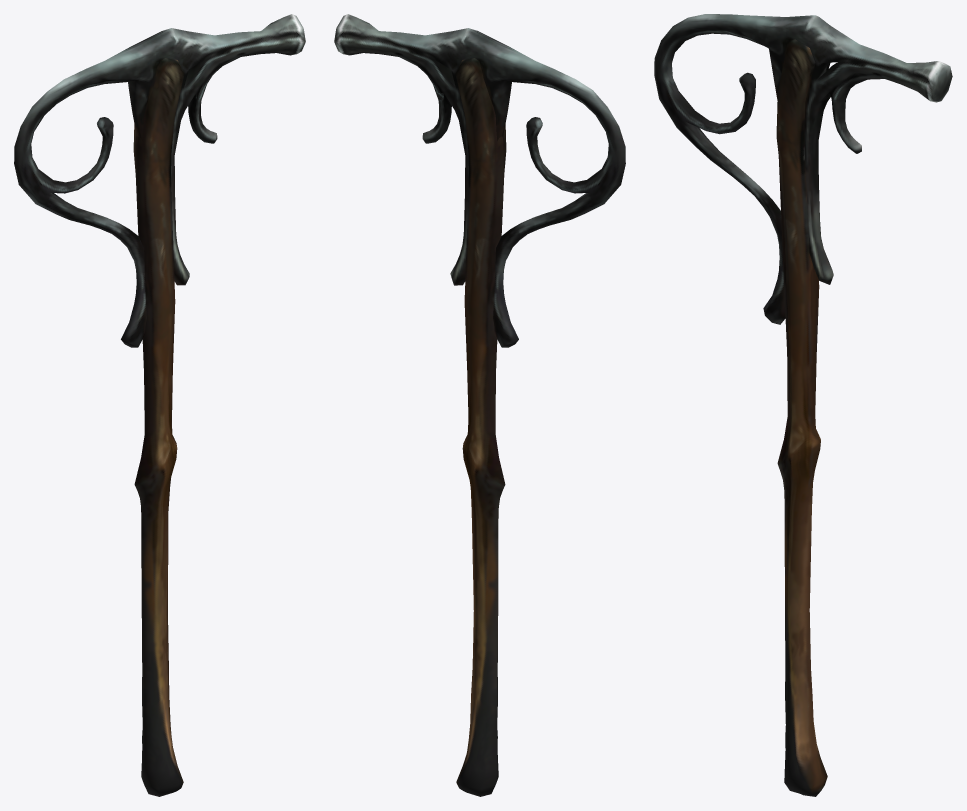
File: weapon-rostock.glb
The picture shows the model from 3 angles, left to right: view 1: azimuth 30°, elevation 25°; view 2: azimuth 150°, elevation 25°; view 3: azimuth 330°, elevation 25°; orthographic projection. The views are drawn at different scales.
Visible parts, largest first — view 1: hammerH_MDL_q; view 2: hammerH_MDL_q; view 3: hammerH_MDL_q.
Boxes of the visible parts, bbox=[...] form: hammerH_MDL_q: bbox=[14, 14, 305, 796]; hammerH_MDL_q: bbox=[334, 14, 625, 796]; hammerH_MDL_q: bbox=[654, 14, 952, 796].
Size of the model in its own units: 0.6203 by 1.61 by 0.0755.
1 material, 1 textured.
